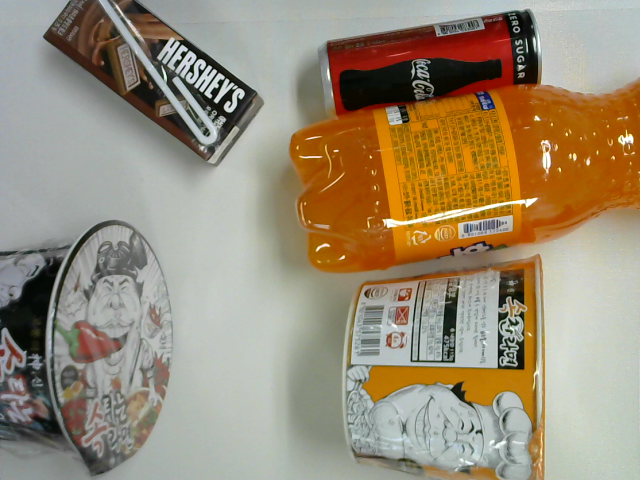Coca_Cola_Zero_Can_250ml: (319, 7, 546, 120)
HeJangsock: (1, 217, 180, 480)
Hejangchan: (340, 252, 546, 480)
Hush_Choco_Drink: (41, 1, 268, 170)
Hwanta_Orange_1.5L: (288, 74, 640, 275)
